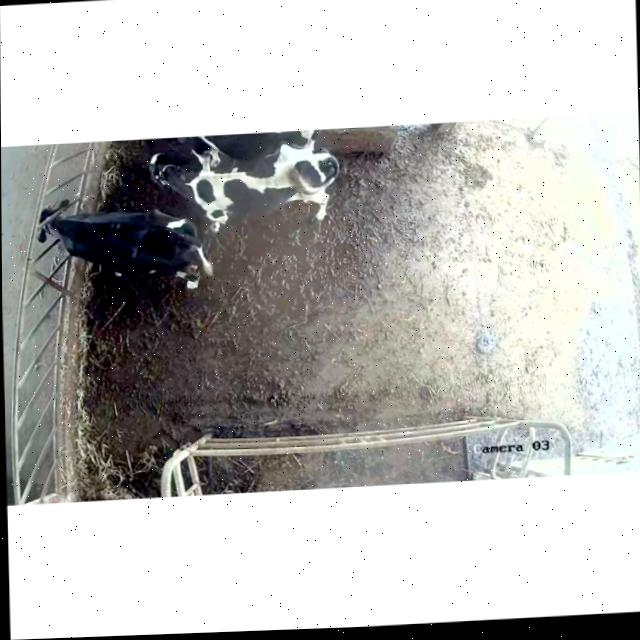stand: (143, 135, 350, 234), (144, 128, 325, 154)
